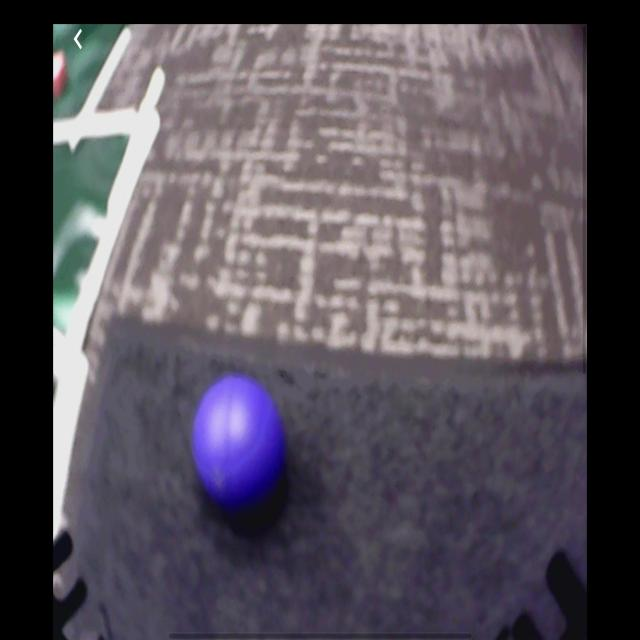ball: (193, 377, 285, 511)
